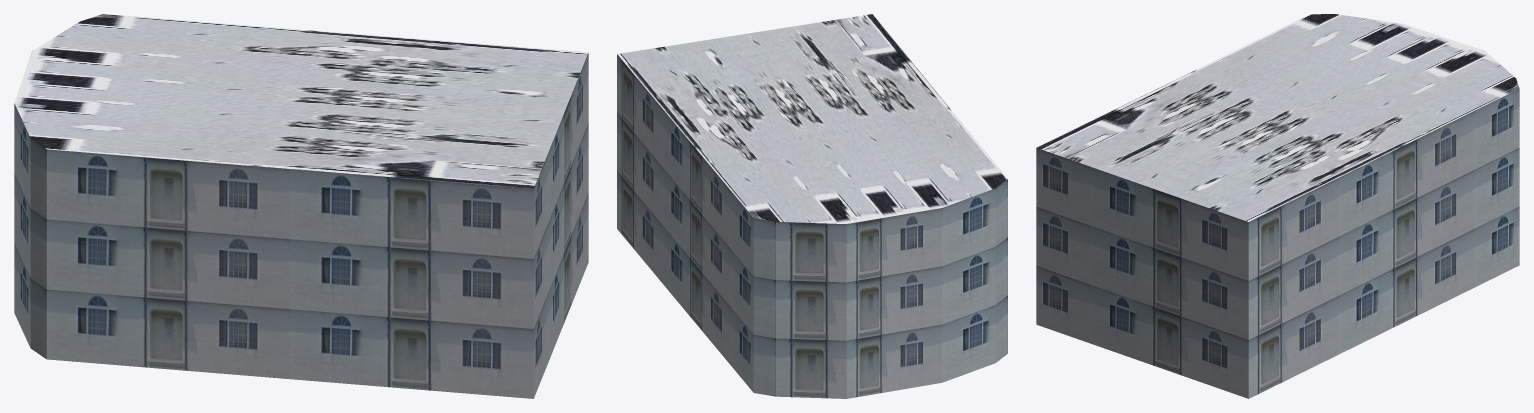
Rendered from ResTex__1609.fbx.
The picture shows the model from 3 angles, left to right: view 1: azimuth 30°, elevation 25°; view 2: azimuth 150°, elevation 25°; view 3: azimuth 270°, elevation 25°; orthographic projection. The views are drawn at different scales.
Visible parts, largest first — view 1: CityEngineMaterial_17_m, CityEngineMaterial_m; view 2: CityEngineMaterial_17_m, CityEngineMaterial_m; view 3: CityEngineMaterial_17_m, CityEngineMaterial_m.
Boxes of the visible parts, bbox=[...] form: CityEngineMaterial_17_m: bbox=[14, 53, 588, 398]; CityEngineMaterial_m: bbox=[14, 14, 588, 188]; CityEngineMaterial_17_m: bbox=[617, 54, 1007, 398]; CityEngineMaterial_m: bbox=[617, 14, 1007, 223]; CityEngineMaterial_17_m: bbox=[1036, 88, 1519, 398]; CityEngineMaterial_m: bbox=[1037, 14, 1519, 221].
Bounding box in the file's own units: 22.71 × 9 × 22.28.
Materials: 2 (2 with a texture image).
